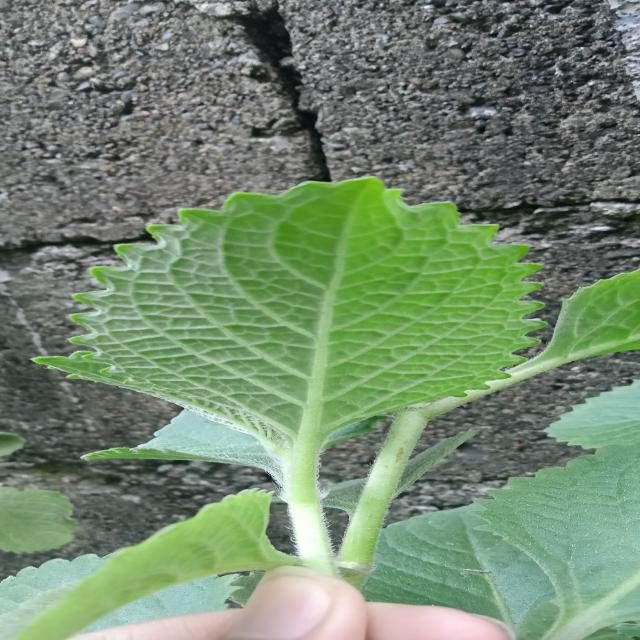Oregano: (56, 169, 561, 463)
